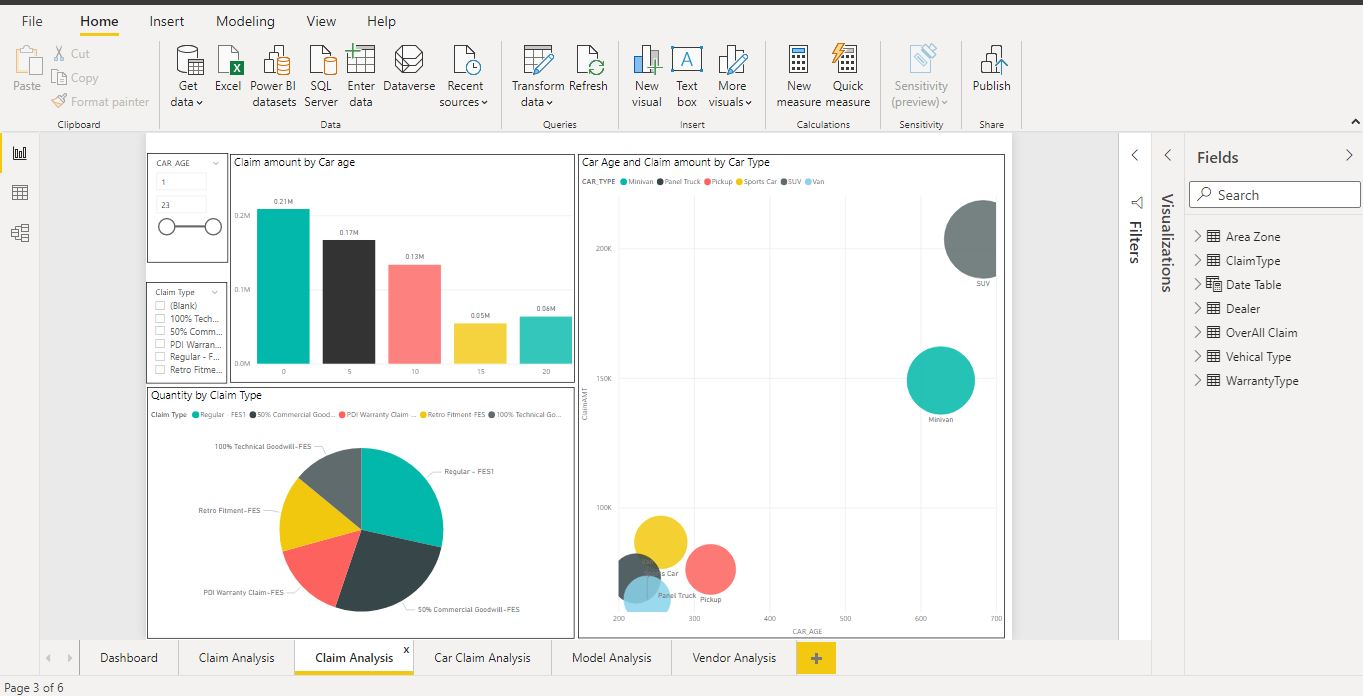

The dashboard page shown, as its layout file describes it:
{"tool":"powerbi","page":{"name":"Claim Analysis","canvas":[1280,720],"ordinal":2},"visuals":[{"type":"scatterChart","title":"Car Age and Claim amount by Car Type","fields":{"X":["Sum(Vehical Type.CAR_AGE)"],"Category":["Vehical Type.CAR_TYPE"],"Y":["Sum(Vehical Type.ClaimAMT)"],"Size":["Sum(Vehical Type.ClaimAMT)"],"Series":["Vehical Type.CAR_TYPE"]},"box":[638.4,1.4,631.4,715.8],"z":0},{"type":"pieChart","fields":{"Category":["ClaimType.Claim Type"],"Y":["Sum(ClaimType.Quantity)"]},"box":[1.3,346,631.9,372.3],"z":1000},{"type":"columnChart","title":"Claim amount by Car age","fields":{"Y":["Sum(Vehical Type.ClaimAMT)"],"Category":["Vehical Type.CAR_AGE (bins)"]},"box":[124.1,1.3,510.2,338.5],"z":2000},{"type":"slicer","fields":{"Values":["Vehical Type.CAR_AGE"]},"box":[1.3,0,120.4,161.7],"z":3000},{"type":"slicer","fields":{"Values":["ClaimType.Claim Type"]},"box":[0,190.6,120.4,150.4],"z":4000}]}

Visuals, with their boxes on the page's 1280x720 design canvas (x1, y1, x2, y2). These are canvas units, not pixel positions in the 1363x696 screenshot, which may show the page scaled, cropped or inside an application window:
"Car Age and Claim amount by Car Type" scatterChart: 638,1,1270,717
pieChart - ClaimType.Claim Type x Sum(ClaimType.Quantity): 1,346,633,718
"Claim amount by Car age" columnChart: 124,1,634,340
slicer - Vehical Type.CAR_AGE: 1,0,122,162
slicer - ClaimType.Claim Type: 0,191,120,341
